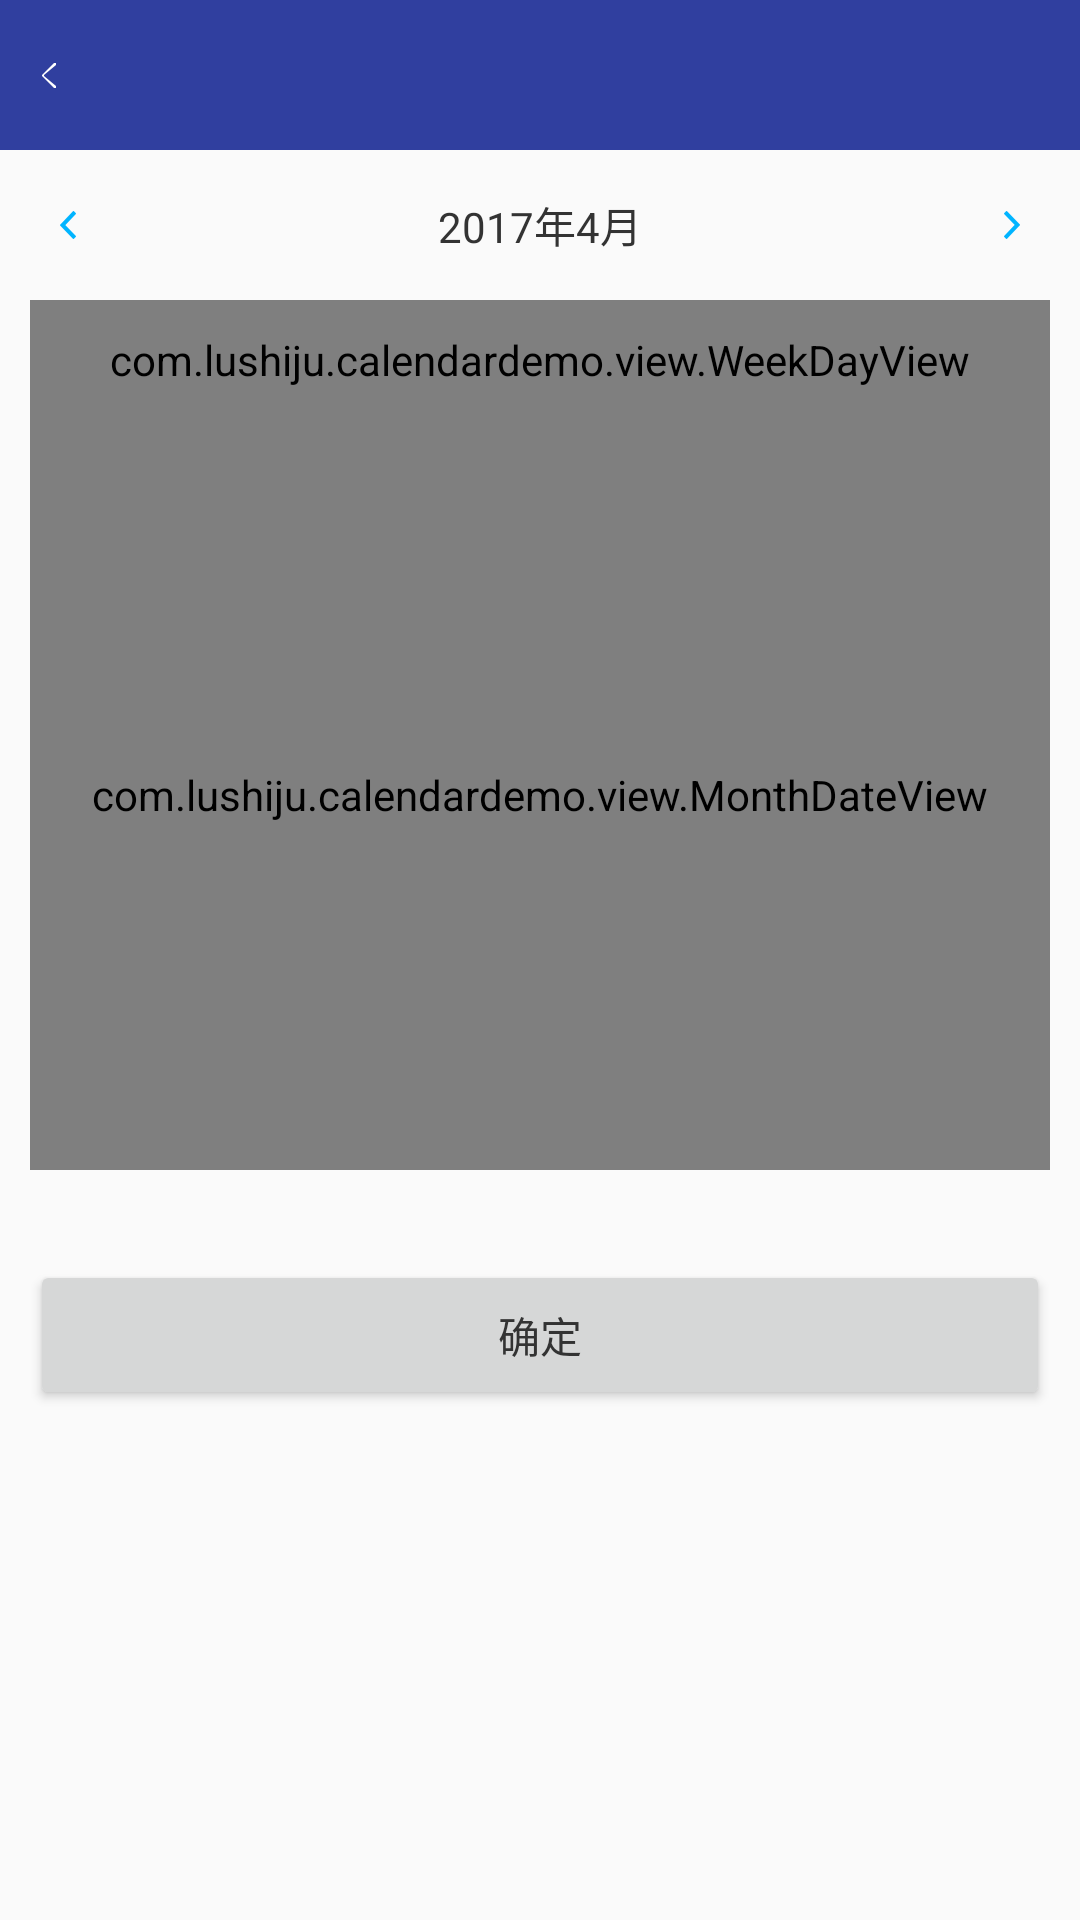

Where icons sit on this 1080 x 1920 app screen, as (x1=x1, y1=y1, x2=x2, y2=y2):
return: (x1=42, y1=63, x2=56, y2=88)
